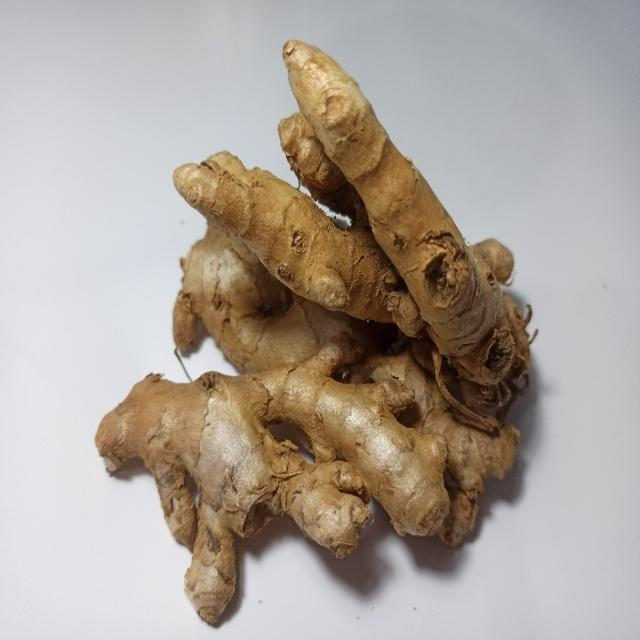ginger: (93, 35, 527, 629)
